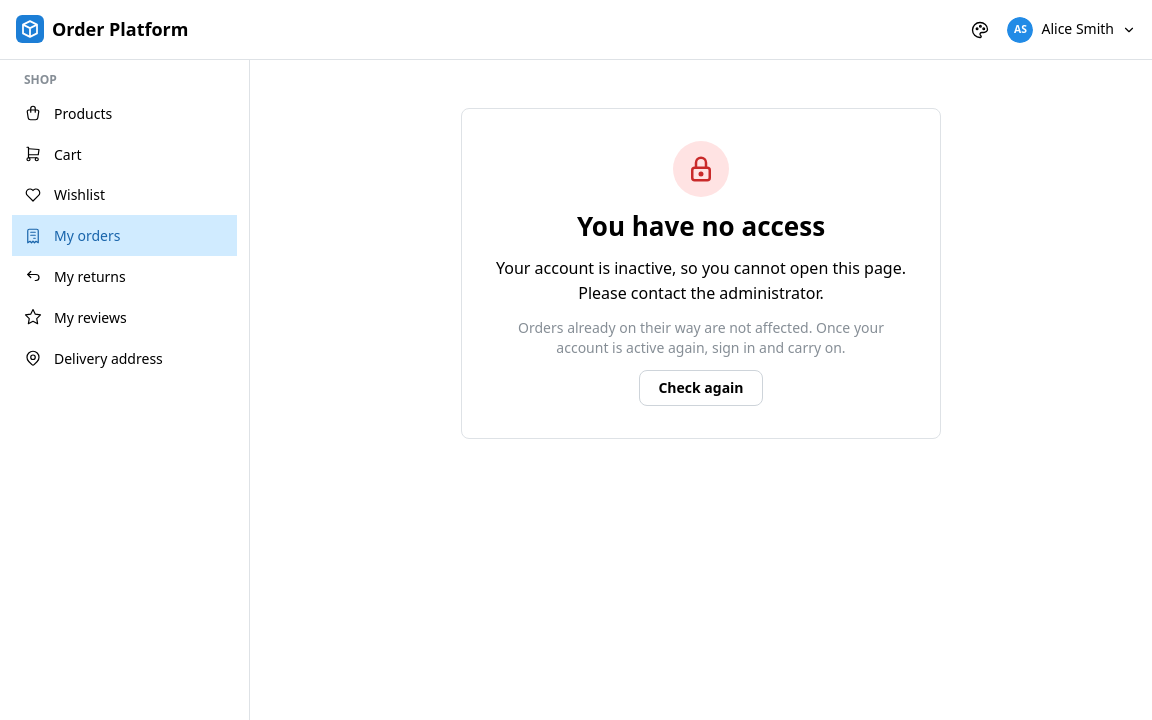
inactive account › shows "no access" on every page, but keeps the menu and sign-out
Check: the heading "You have no access" is shown, box [577,209,825,244]
Check: the text "Please contact the administrator" is shown, box [496,257,906,304]
Step 1. Click the link "Products" → (68, 113), box [24,104,112,123]
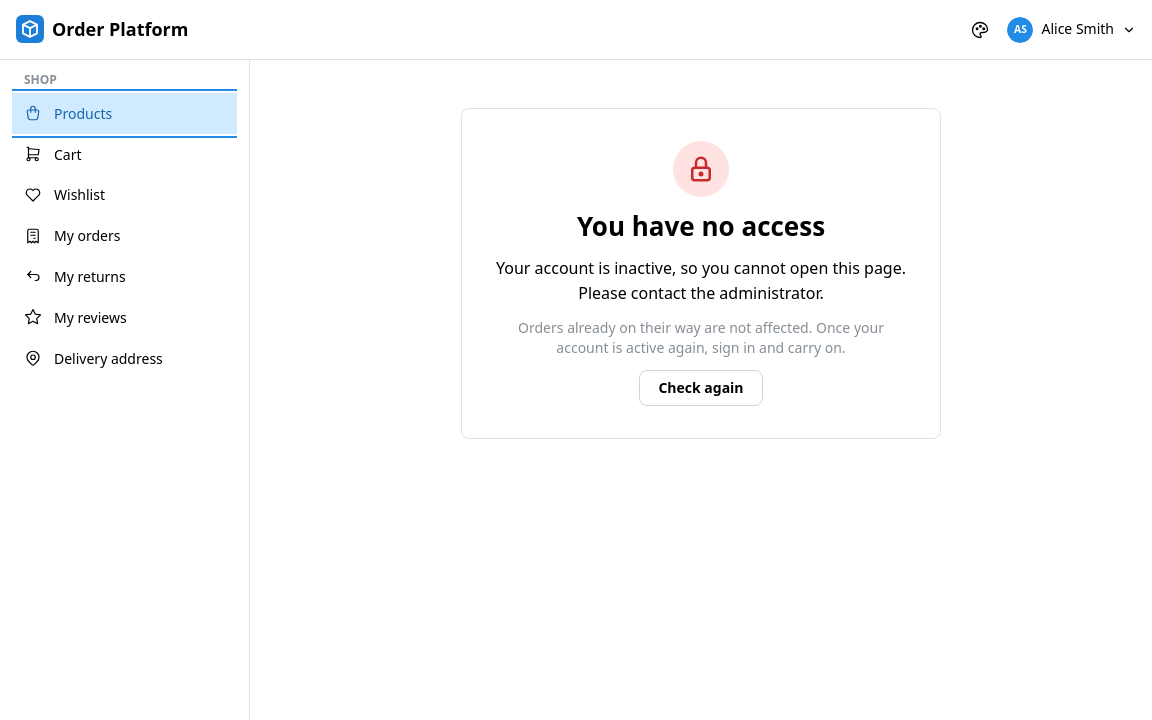
Check: the heading "You have no access" is shown, box [577,209,825,244]
Step 2. Click the button with aria-label "Account menu" → (1072, 30), box [1008,16,1136,42]
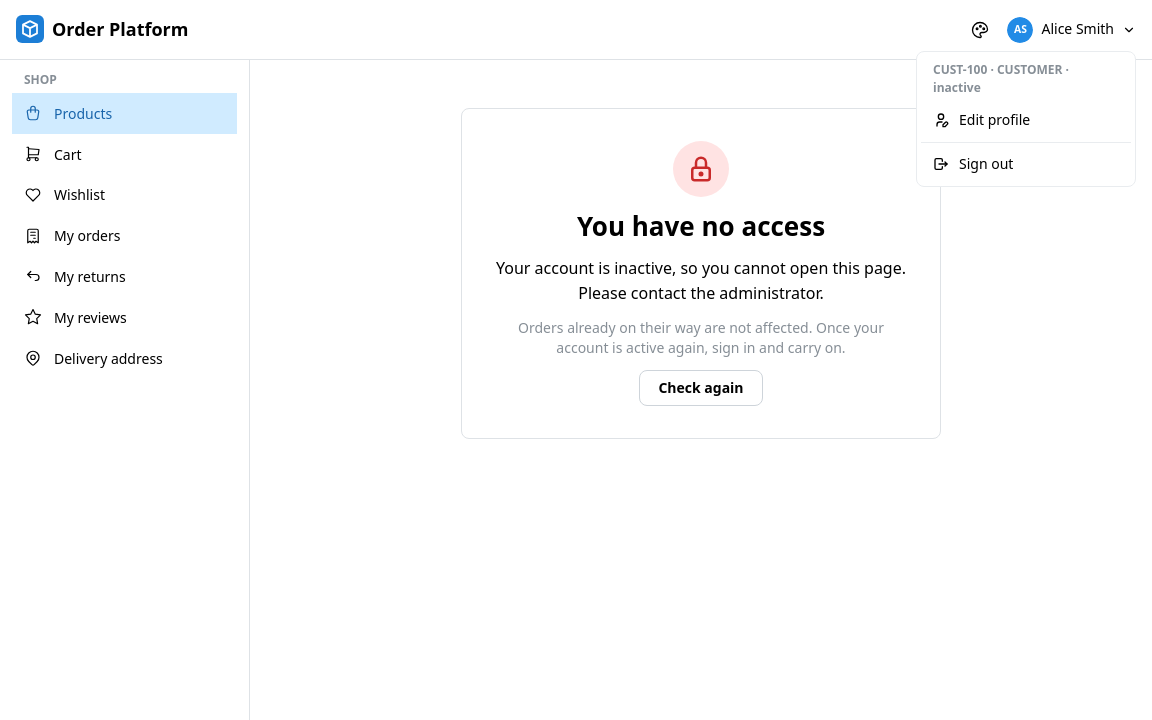
Check: the menu item "Sign out" is shown, box [921,147,1131,182]
